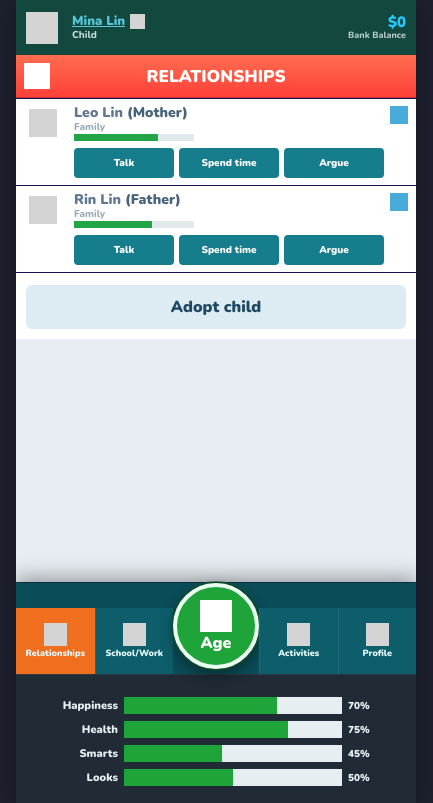
Test: App › lets players interact with family relationships
Click the button "Talk" below "Leo Lin" at {"x": 124, "y": 163}, box [74, 148, 174, 178]
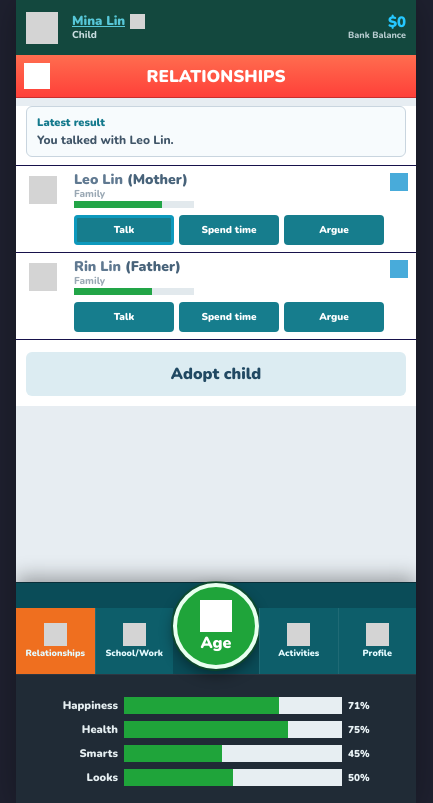
Now the text "You talked with Leo Lin." is shown, box [37, 132, 174, 148]
